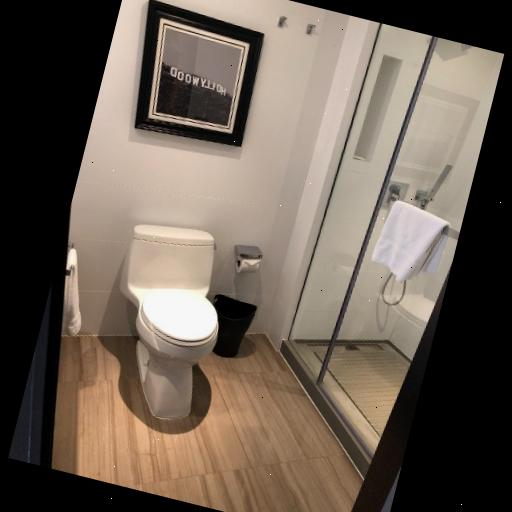clean shower: (264, 20, 504, 422)
clean_floor: (53, 332, 362, 512)
clean_toilet: (90, 214, 280, 451)
folded_towel: (370, 196, 449, 283)
